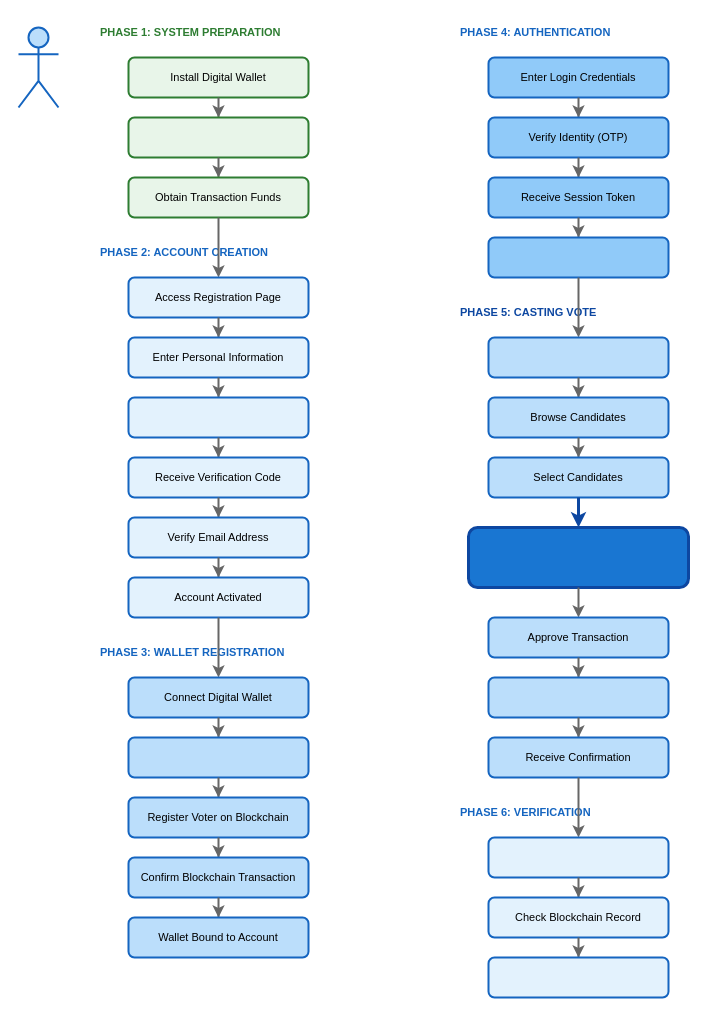
This 707x1015 diagram has some shape labels left out. Here are the shapes that lost their labels. From the top down, the centre of each, then its label:
At (38,67): "Voter".
At (218,137): "Configure Blockchain Network".
At (578,257): "Access Granted".
At (578,357): "Verify Election Active".
At (218,417): "Submit Registration".
At (578,557): "SUBMIT VOTE".
At (578,697): "Vote Recorded on Blockchain".
At (218,757): "Approve Wallet Connection".
At (578,857): "View Vote Status".
At (578,977): "View Election Results".
